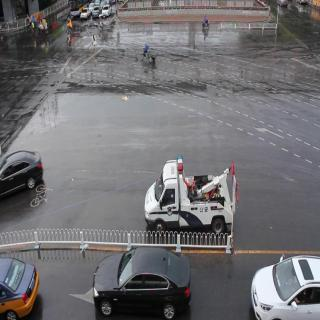Car: (98, 251, 190, 320), (153, 159, 231, 234), (261, 254, 320, 316), (1, 151, 42, 205)
